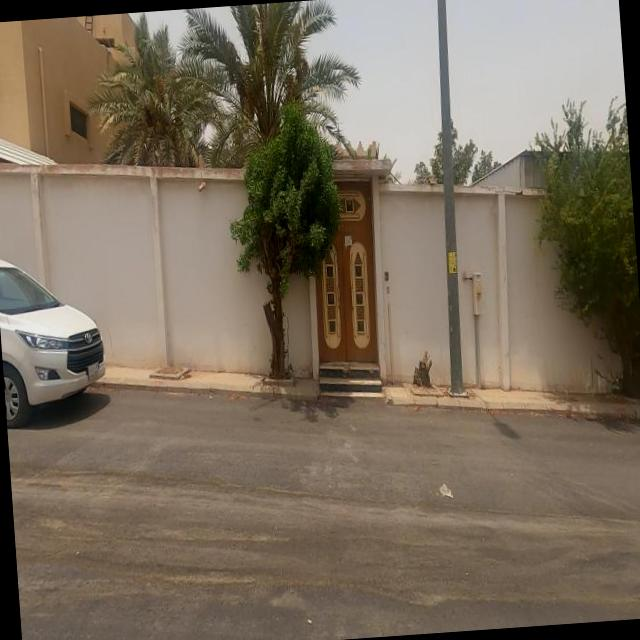debris: (406, 436, 489, 548)
